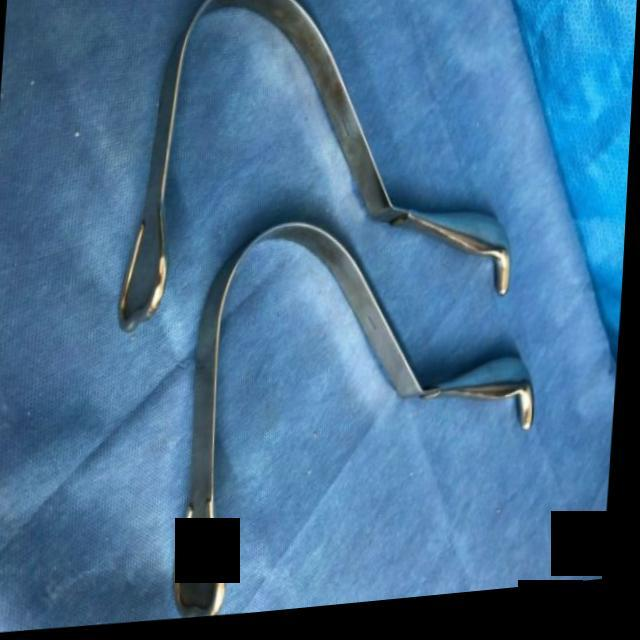Hrrington retractor: (172, 200, 551, 625), (109, 0, 538, 347)
